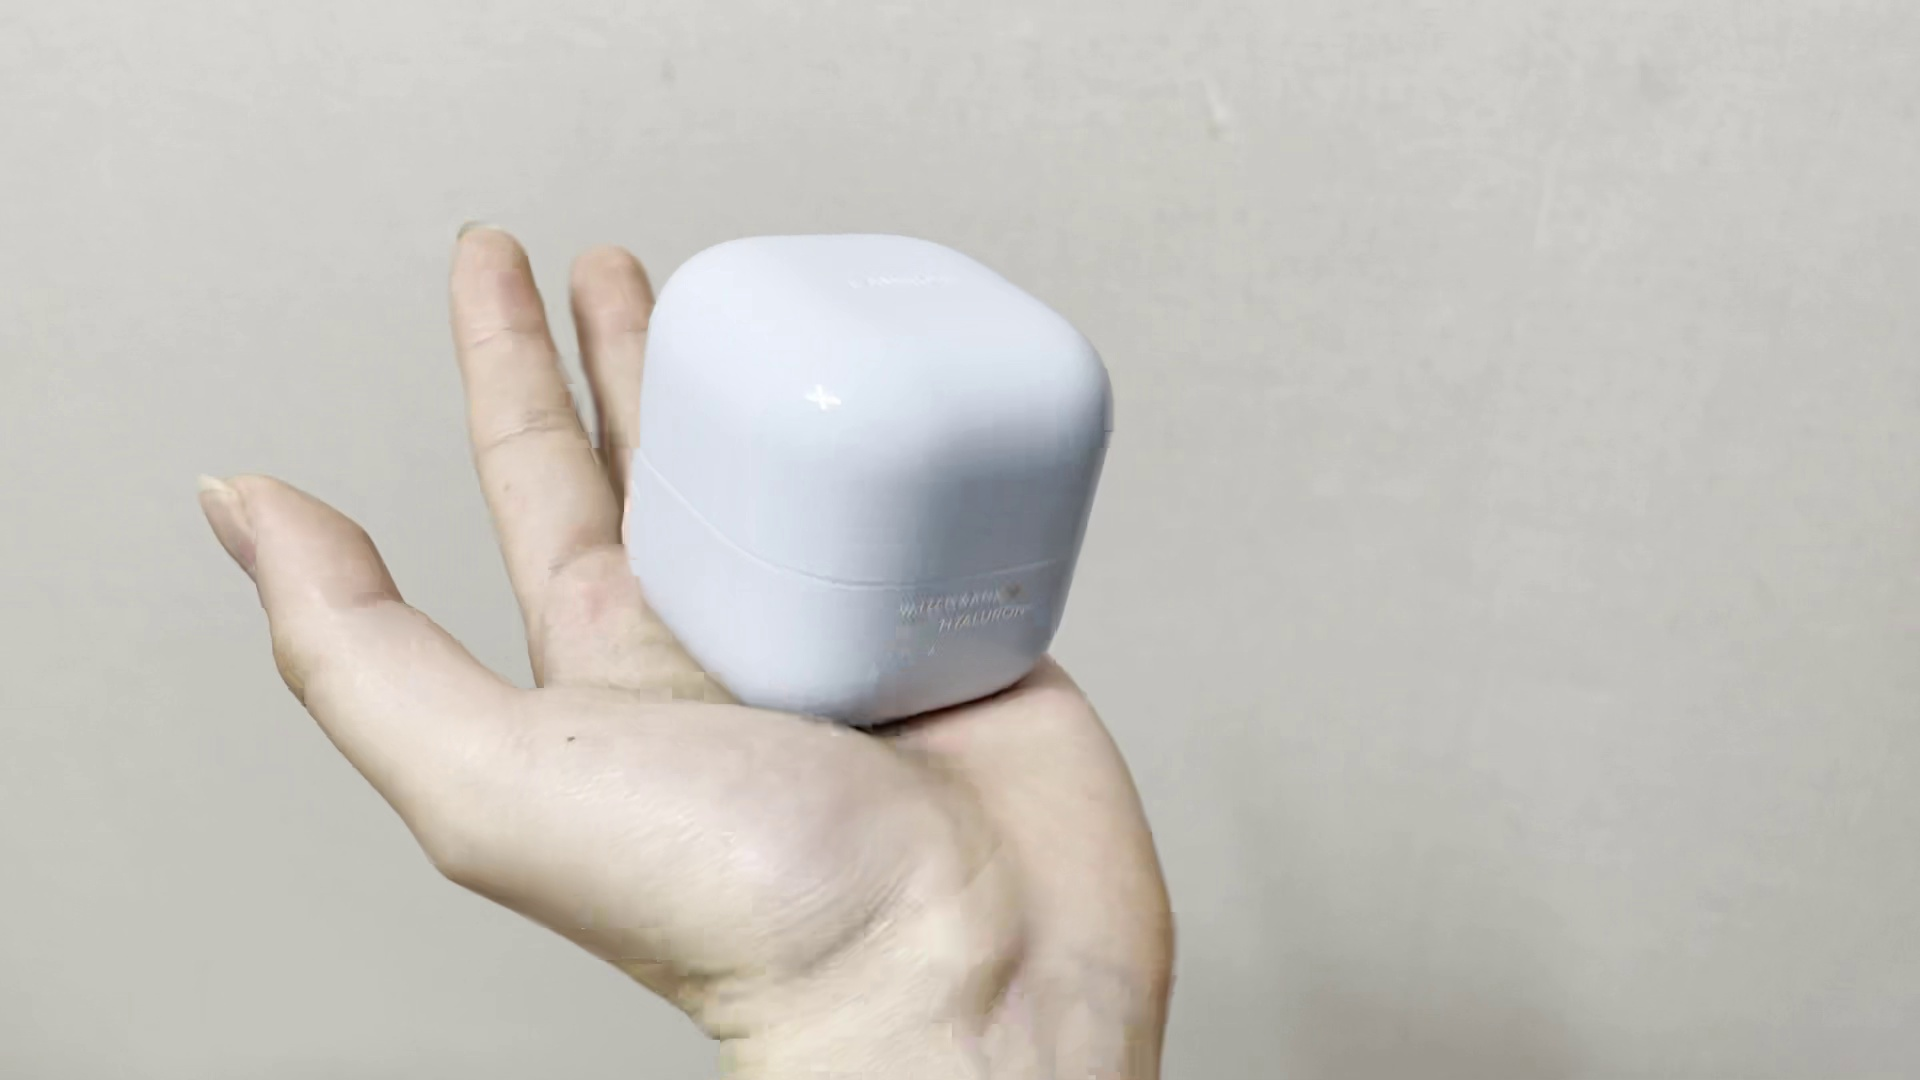cream: (620, 215, 1118, 733)
